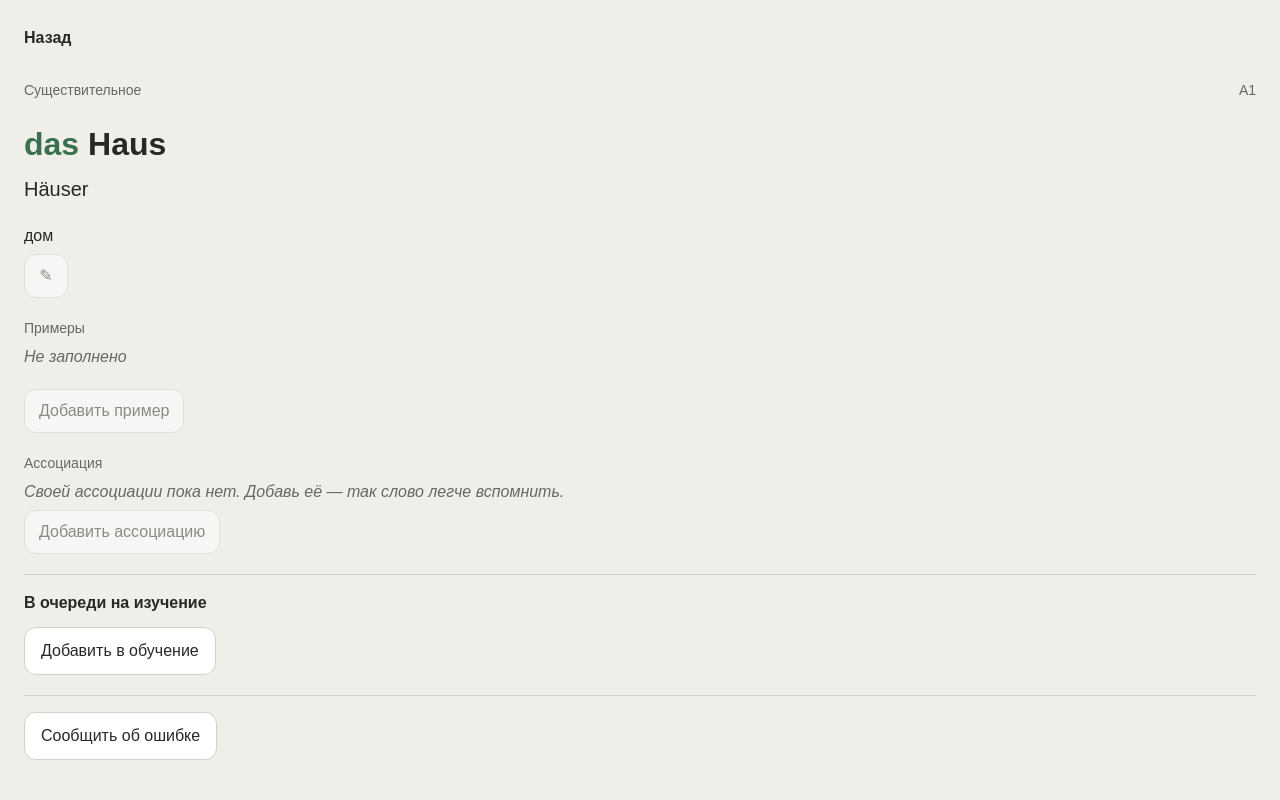
Test: М12 card host: card read, card context, manual Learning choice, Back › H3 «Добавить в обучение» selects the card; its own reply rereads the card and the facts decide
Expected: the text "В очереди на изучение" is shown, [24,594,207,611]
Click the button "Добавить в обучение" at (120, 651), box [24,627,216,675]
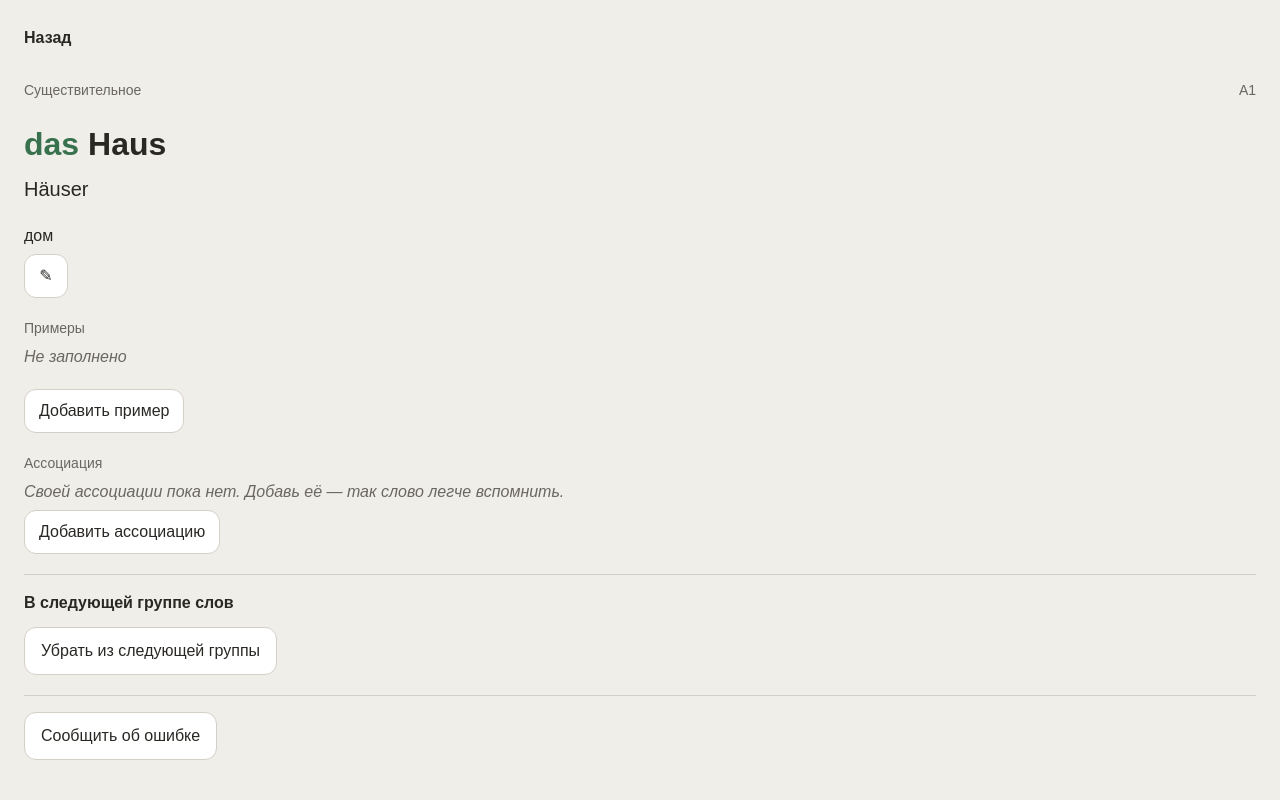
Expected: the text "В следующей группе слов" is shown, [24,594,234,611]
// К04-061 / К04-072: the wait can be cancelled from the card.
Click the button "Убрать из следующей группы" at (151, 651), box [24,627,277,675]
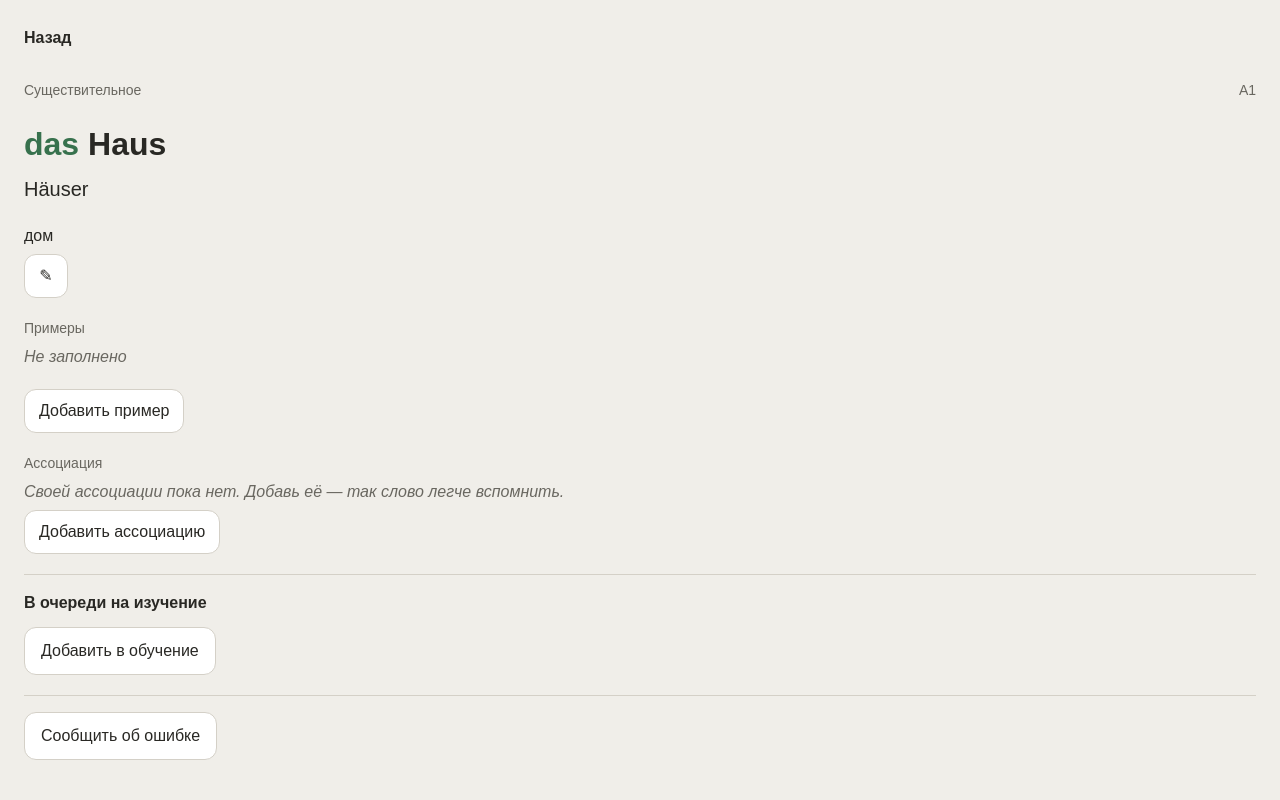
Expected: the text "В очереди на изучение" is shown, [24,594,207,611]
